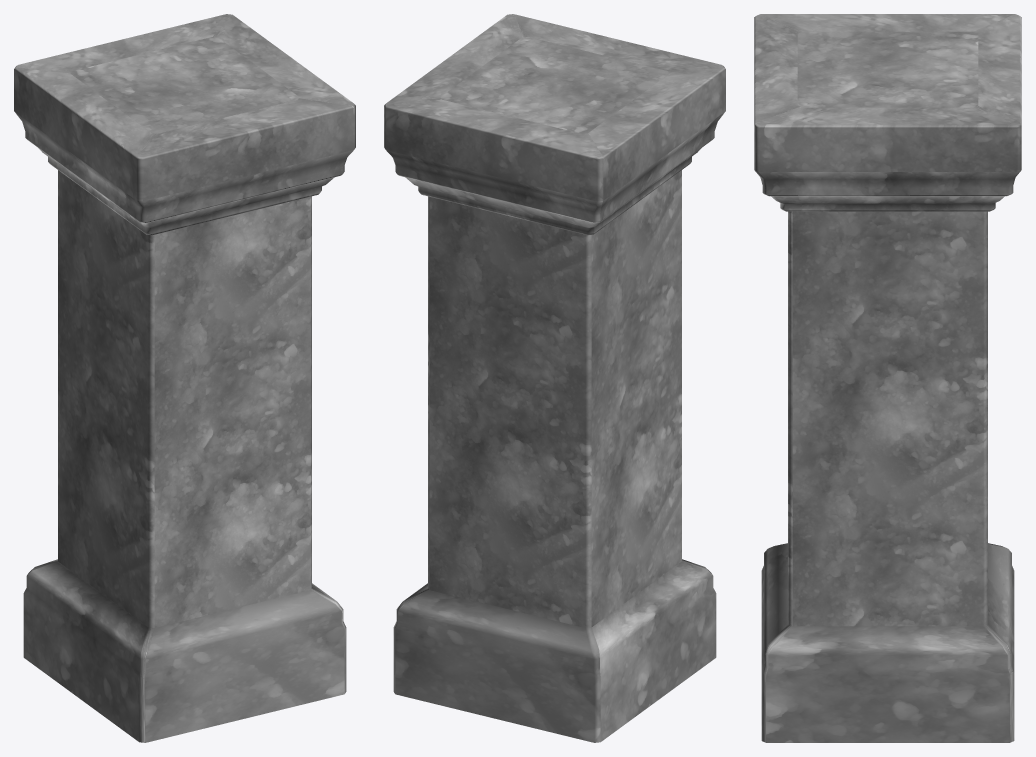
The model's file is SM_ConcreteHandRail_03b.fbx.
The picture shows the model from 3 angles, left to right: view 1: azimuth 30°, elevation 25°; view 2: azimuth 150°, elevation 25°; view 3: azimuth 270°, elevation 25°; orthographic projection. The views are drawn at different scales.
Parts seen in each view (by area): view 1: SM_ConcreteHandRail_03b_LOD0; view 2: SM_ConcreteHandRail_03b_LOD0; view 3: SM_ConcreteHandRail_03b_LOD0.
Boxes of the visible parts, x1=… form: SM_ConcreteHandRail_03b_LOD0: x1=14, y1=14, x2=355, y2=742; SM_ConcreteHandRail_03b_LOD0: x1=384, y1=14, x2=725, y2=742; SM_ConcreteHandRail_03b_LOD0: x1=754, y1=14, x2=1021, y2=742.
Bounding box in the file's own units: 38.59 × 38.77 × 99.14.
